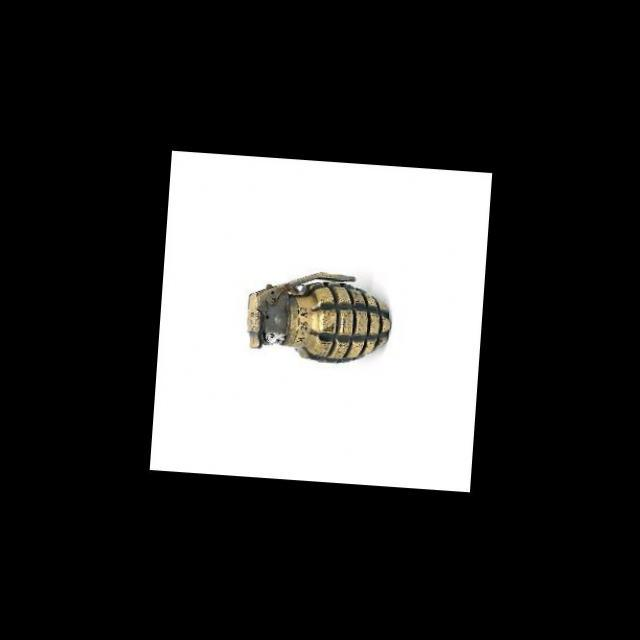grenade: (236, 266, 404, 370)
